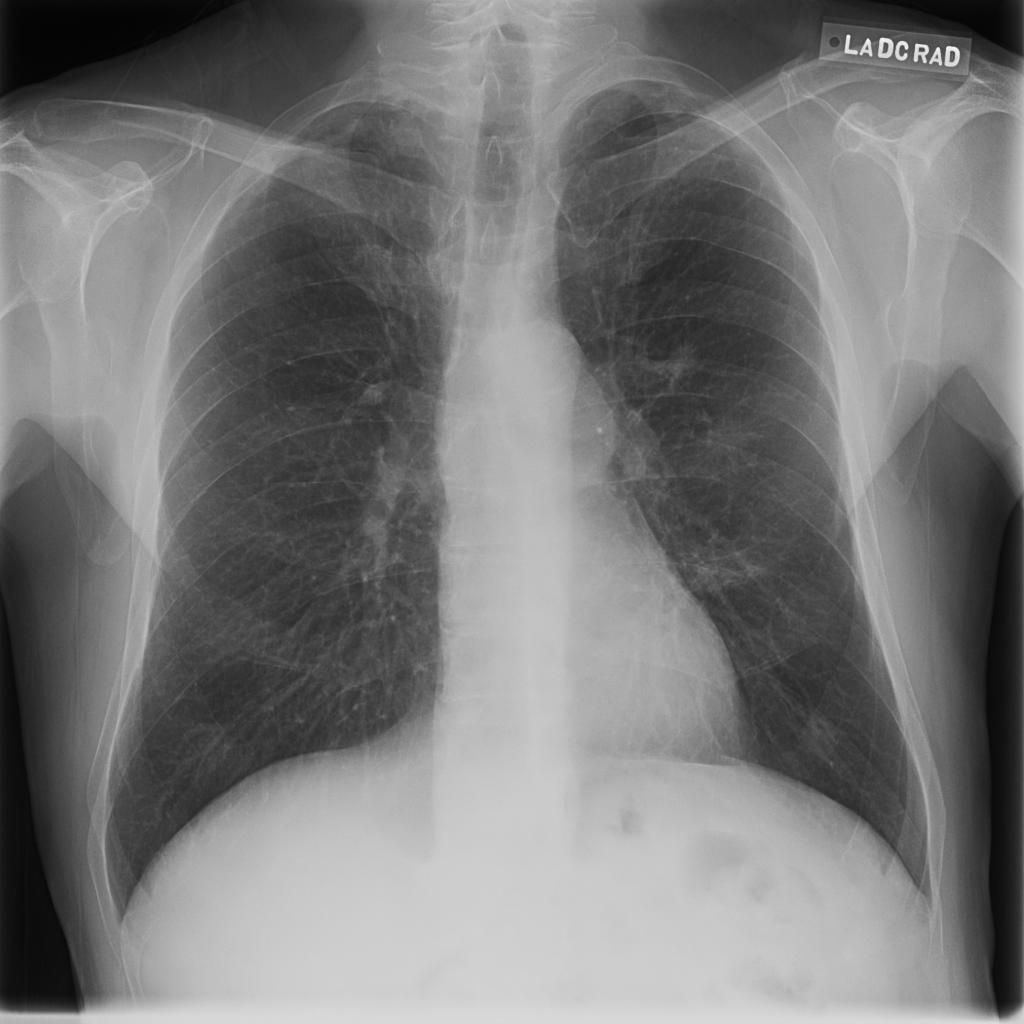Nodule: (337, 278, 366, 305), (356, 209, 382, 235), (333, 173, 359, 199)
